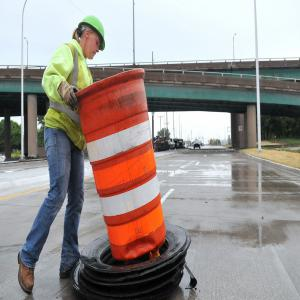yellow: (79, 16, 107, 60)
